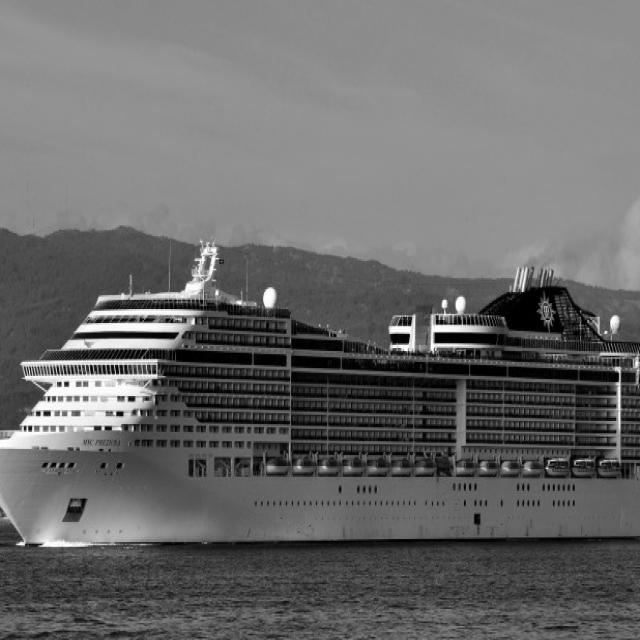cruises: (1, 239, 640, 557)
